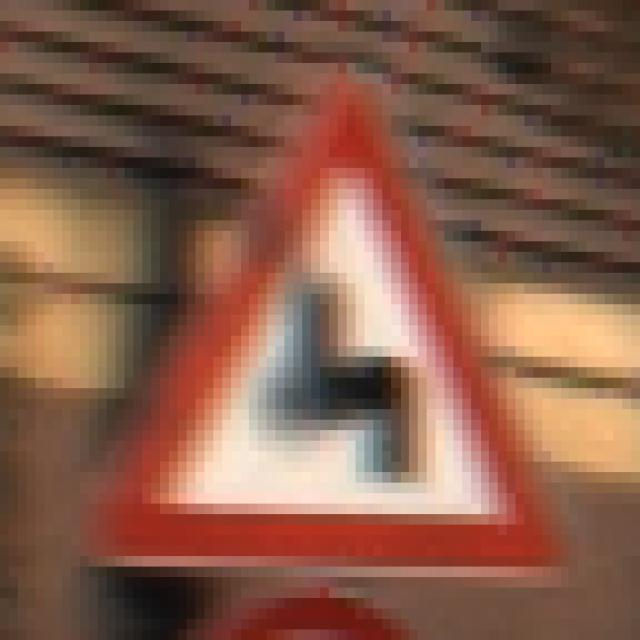left reverse bend: (76, 63, 580, 594)
